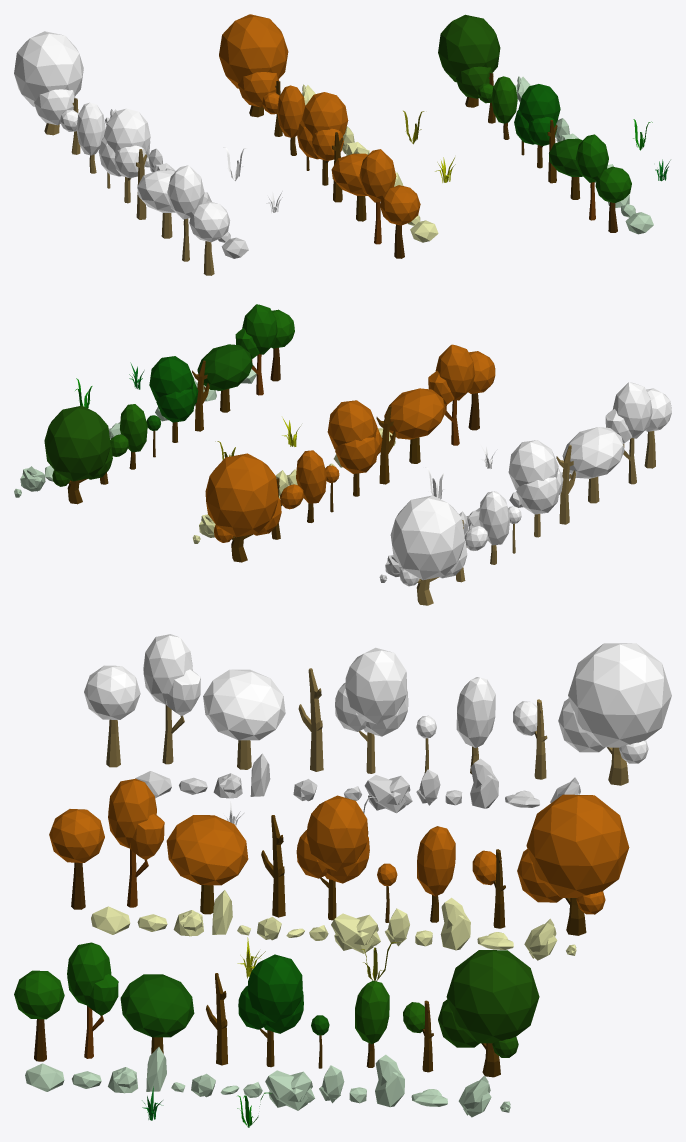
Rendered from 0_Trees.fbx.
3 views of the same model, one above another, from view 1: azimuth 30°, elevation 25°; view 2: azimuth 150°, elevation 25°; view 3: azimuth 270°, elevation 25° (orthographic). The views are drawn at different scales.
Visible parts, largest first — view 1: Cylinder.017, Cylinder.026, Cylinder.008, Cylinder.013, Cylinder.022, Cylinder.004, Cylinder.010, Cylinder.019, Cylinder.009, Cylinder.018, Cylinder.011, Cylinder.001 (+13 smaller); view 2: Cylinder.017, Cylinder.026, Cylinder.008, Cylinder.013, Cylinder.022, Cylinder.011, Cylinder.020, Cylinder.004, Cylinder.010, Cylinder.019, Cylinder.002, Cylinder.001 (+12 smaller); view 3: Cylinder.017, Cylinder.026, Cylinder.008, Cylinder.013, Cylinder.022, Cylinder.011, Cylinder.020, Cylinder.004, Cylinder.010, Cylinder.019, Cylinder.002, Cylinder.001 (+24 smaller).
Part boxes in pixels (box(x1,y1,x2,y2)): Cylinder.017: box(14, 31, 83, 135); Cylinder.026: box(219, 14, 288, 117); Cylinder.008: box(438, 14, 500, 107); Cylinder.013: box(98, 108, 150, 203); Cylinder.022: box(297, 92, 348, 185); Cylinder.004: box(514, 84, 560, 168); Cylinder.010: box(167, 165, 204, 261); Cylinder.019: box(359, 149, 396, 244); Cylinder.009: box(189, 201, 230, 275); Cylinder.018: box(380, 185, 420, 258); Cylinder.011: box(137, 170, 175, 238); Cylinder.001: box(575, 134, 608, 220); Cylinder.017: box(390, 495, 467, 605); Cylinder.026: box(205, 453, 281, 562); Cylinder.008: box(44, 405, 112, 504); Cylinder.013: box(508, 440, 563, 537); Cylinder.022: box(327, 400, 382, 496); Cylinder.011: box(562, 427, 624, 503); Cylinder.020: box(384, 388, 445, 463); Cylinder.004: box(149, 356, 198, 442); Cylinder.010: box(605, 382, 652, 484); Cylinder.019: box(428, 344, 475, 445); Cylinder.002: box(197, 344, 252, 412); Cylinder.001: box(235, 304, 277, 395); Cylinder.017: box(558, 643, 671, 785); Cylinder.026: box(517, 794, 629, 935); Cylinder.008: box(438, 950, 539, 1077); Cylinder.013: box(335, 647, 408, 773); Cylinder.022: box(296, 795, 369, 920); Cylinder.011: box(203, 669, 285, 769); Cylinder.020: box(166, 815, 248, 914); Cylinder.004: box(238, 954, 303, 1067); Cylinder.010: box(143, 634, 200, 764); Cylinder.019: box(108, 778, 164, 907); Cylinder.002: box(120, 974, 194, 1053); Cylinder.001: box(67, 942, 118, 1058).
Bounding box in the file's own units: 2120 × 554 × 1719.
